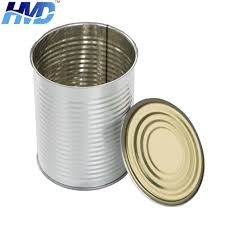can: (28, 20, 207, 209)
